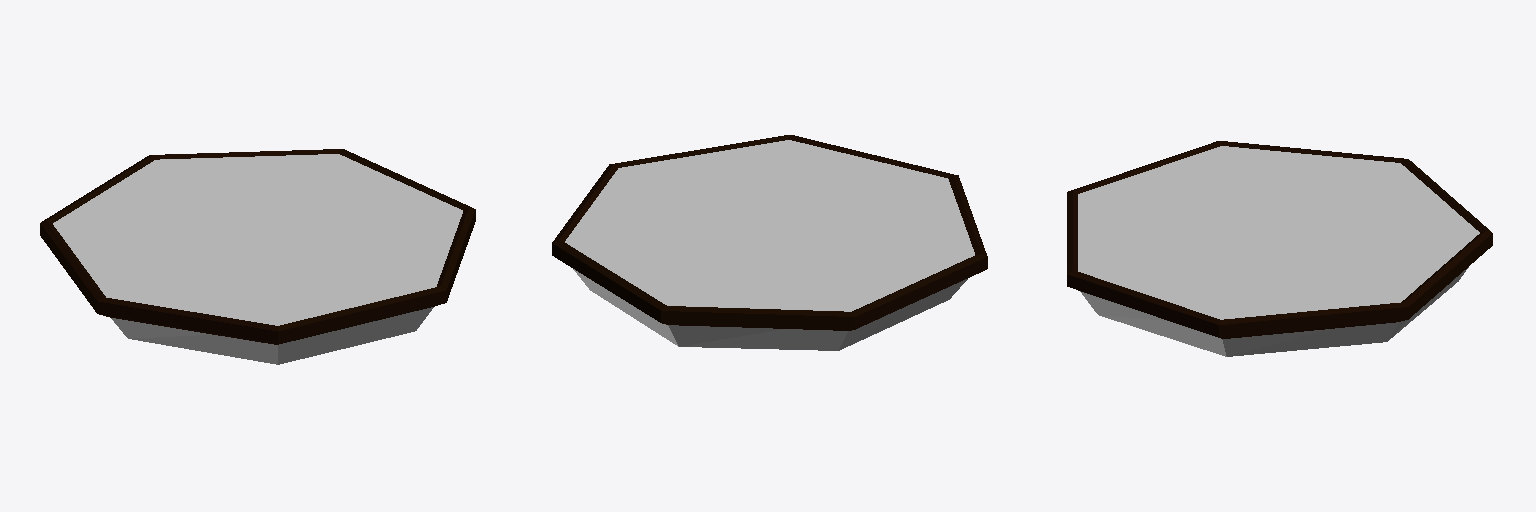
File: plate.obj
3 renders of one model, left to right at view 1: azimuth 30°, elevation 25°; view 2: azimuth 150°, elevation 25°; view 3: azimuth 270°, elevation 25°, orthographic.
Parts seen in each view (by area): view 1: COLLISION_Cylinder.001, Cylinder; view 2: COLLISION_Cylinder.001, Cylinder; view 3: COLLISION_Cylinder.001, Cylinder.
Part boxes in pixels (left/top/right/bottom): COLLISION_Cylinder.001: left=53, top=154, right=462, bottom=364; Cylinder: left=40, top=149, right=475, bottom=344; COLLISION_Cylinder.001: left=565, top=140, right=974, bottom=350; Cylinder: left=552, top=135, right=987, bottom=330; COLLISION_Cylinder.001: left=1078, top=146, right=1479, bottom=356; Cylinder: left=1067, top=141, right=1492, bottom=338.
Size of the model in its own units: 0.2817 by 0.0364 by 0.2746.